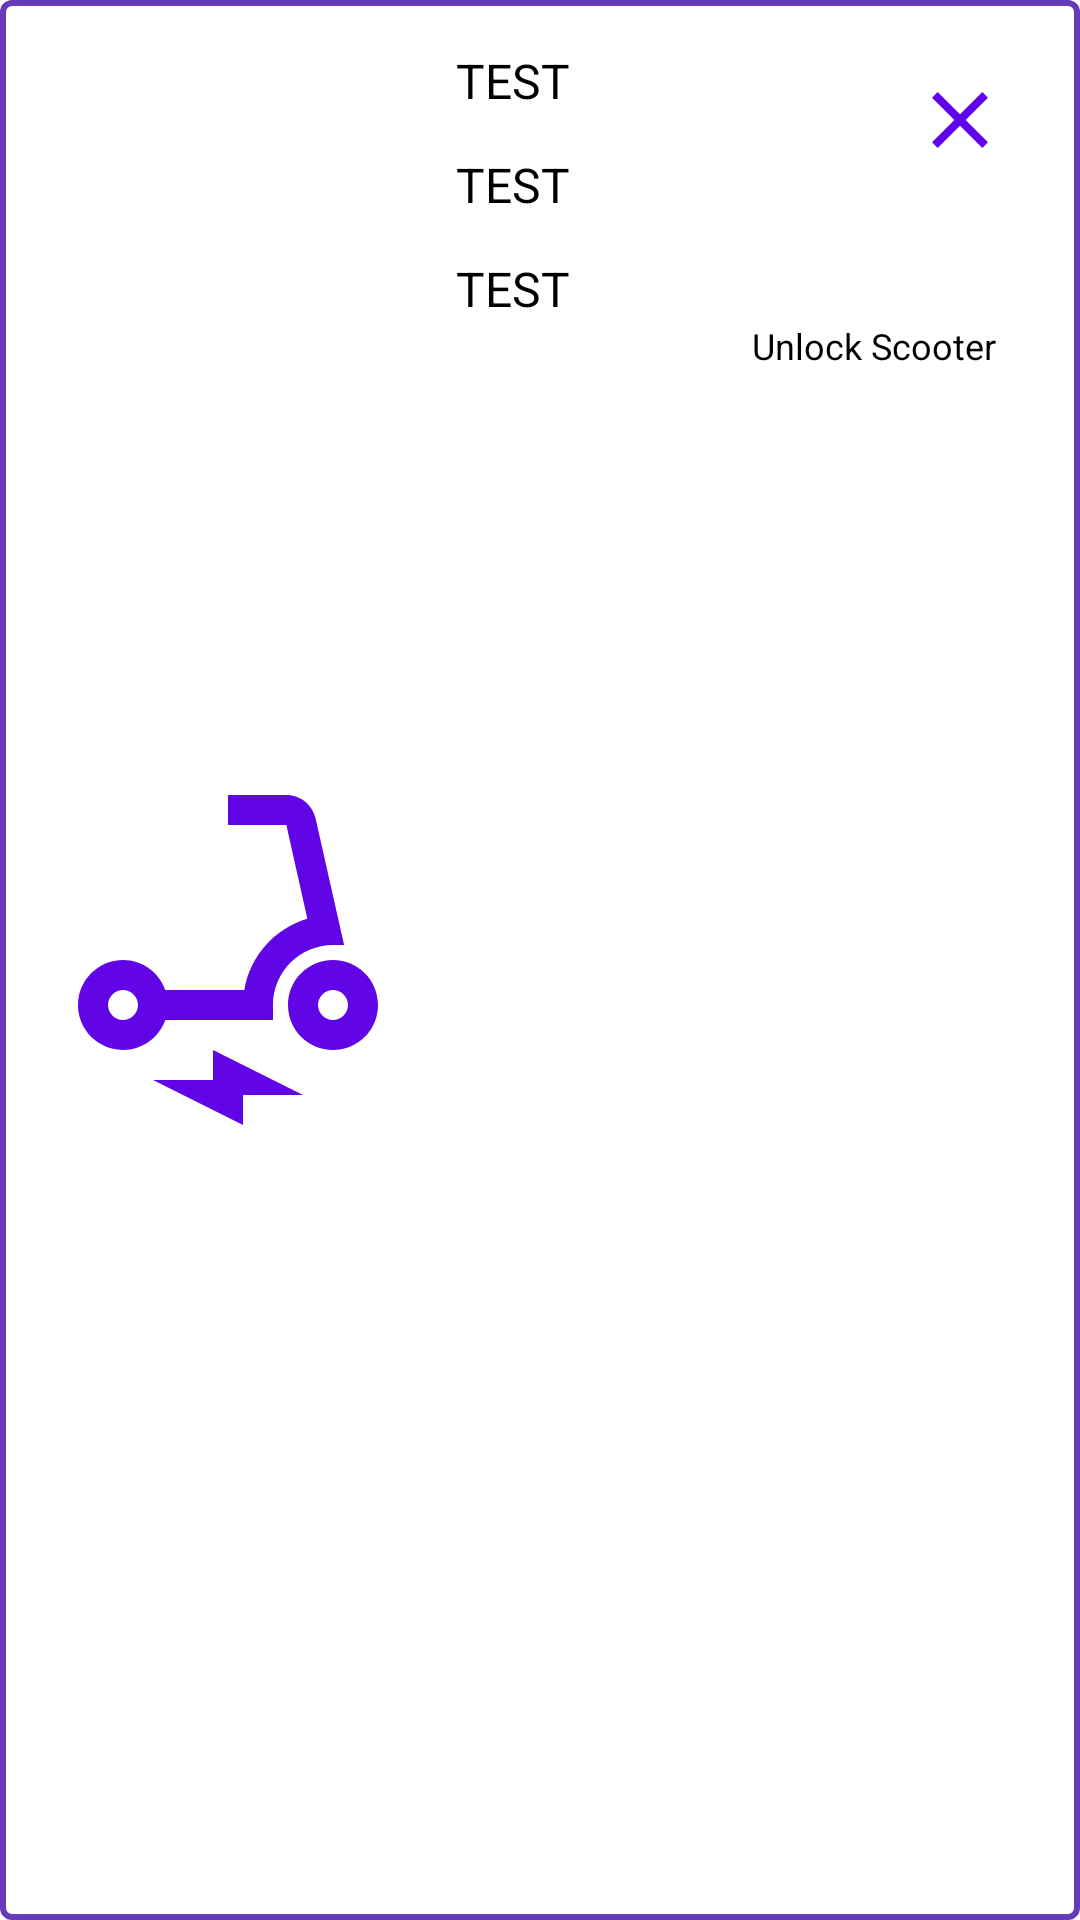

Screen size 1080x1920. Icon name, then its center in pixels as point (x, y):
close: point (960, 120)
electric scooter: point (228, 960)
